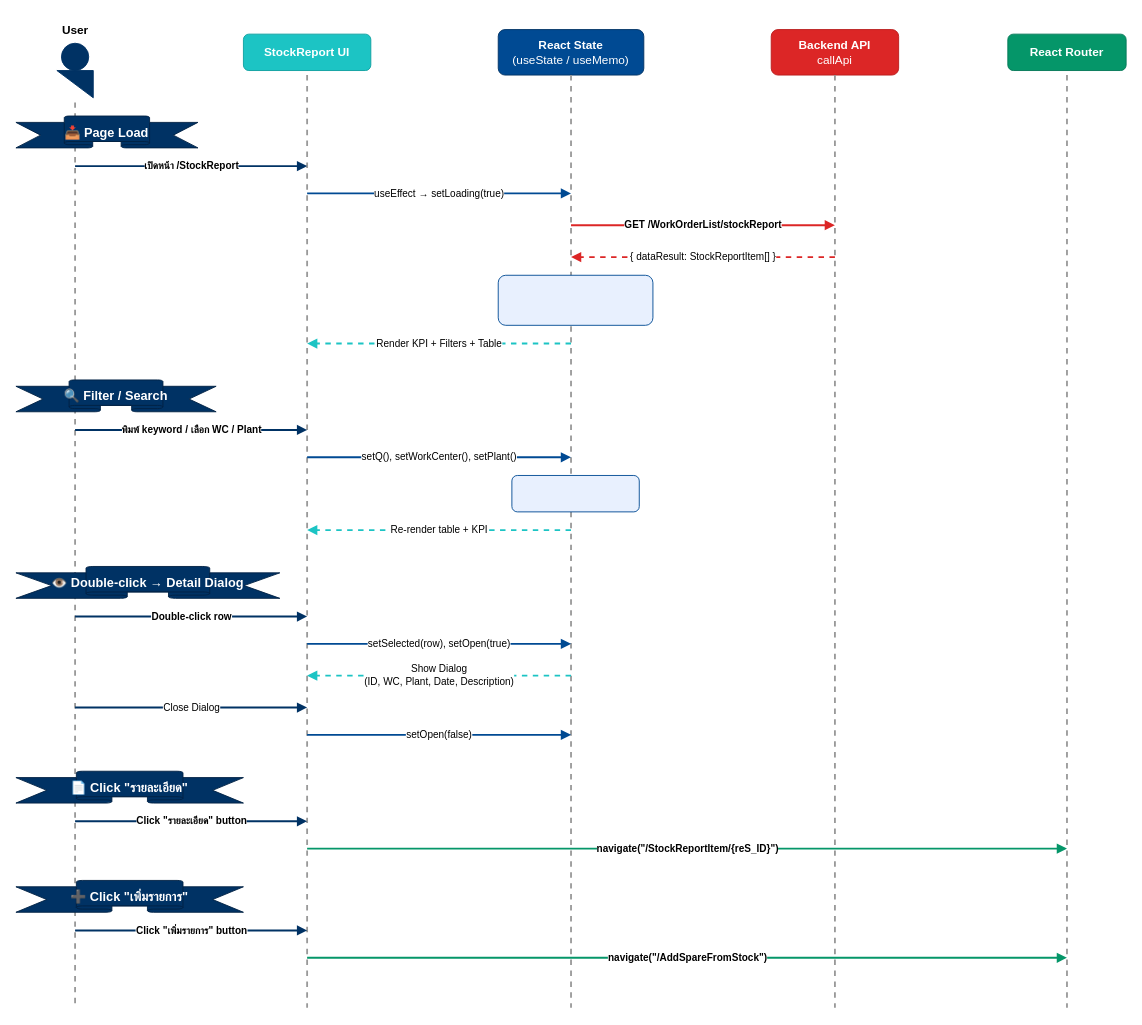
Image size: 1142x1025. Some labels were removed from this diagram. The centre of each missing label's shape, as x and y in pixels:
"setData(dataResult) setLoading(false) useMemo → filtered, kpi" goes at (x=575, y=299).
"useMemo → filtered useMemo → kpi" goes at (x=575, y=493).
